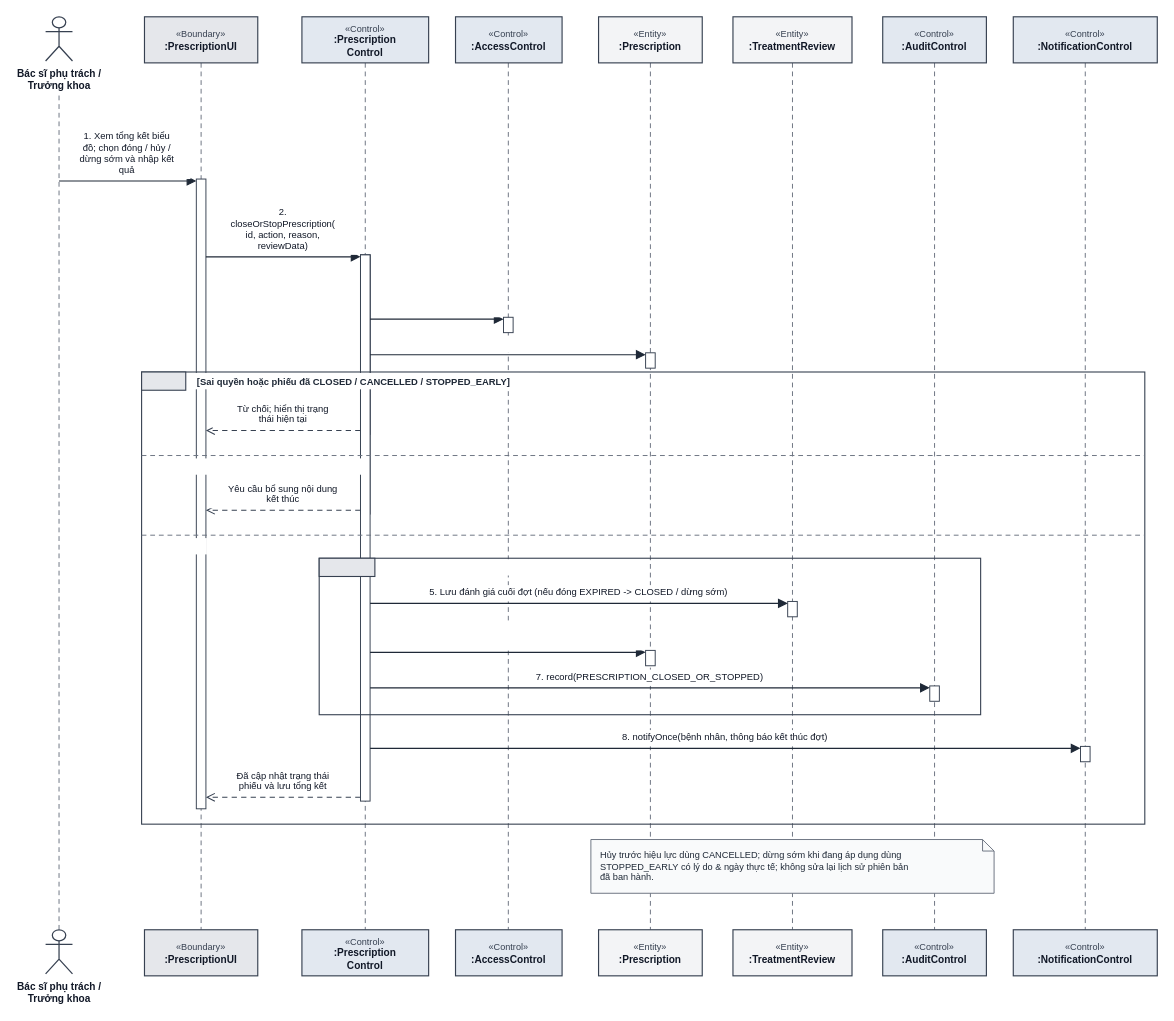
This 1174x1021 diagram has some shape labels left out. Each missing label, with the centre of its shape:
"3. checkPatientScope( ASSIGNED DOCTOR hoặc HEAD_DOCTOR)" goes at (436,295).
"4. Đọc trạng thái phiếu hiện hành" goes at (507,344).
"6. Chuyển CLOSED / CANCELLED (trước hiệu lực) / STOPPED_EARLY kèm ngày thực tế" goes at (507,635).
"[Hợp lệ]" goes at (177,546).
"[Kết thúc đợt điều trị]" goes at (450,567).
"[Thiếu lý do hoặc đánh giá bắt buộc]" goes at (255,466).
"alt" goes at (163,380).
"group" goes at (346,567).
